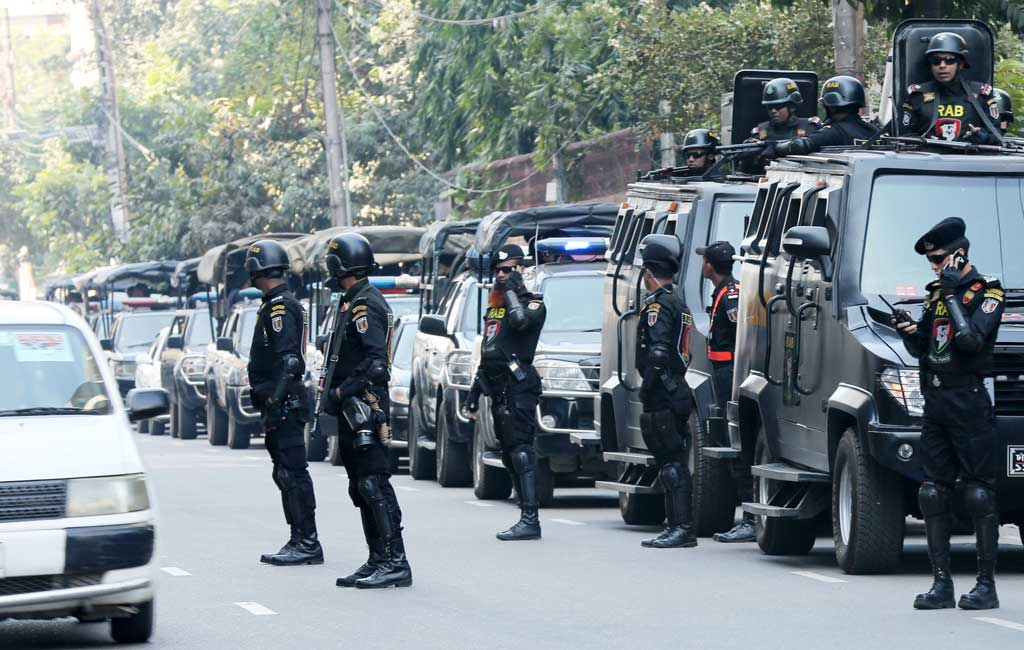army vehicle: (725, 133, 1024, 576), (596, 160, 759, 535), (473, 203, 621, 501), (299, 223, 421, 472), (407, 217, 485, 487), (198, 230, 267, 448), (92, 264, 166, 433), (160, 256, 212, 439)
car: (1, 297, 156, 644)
